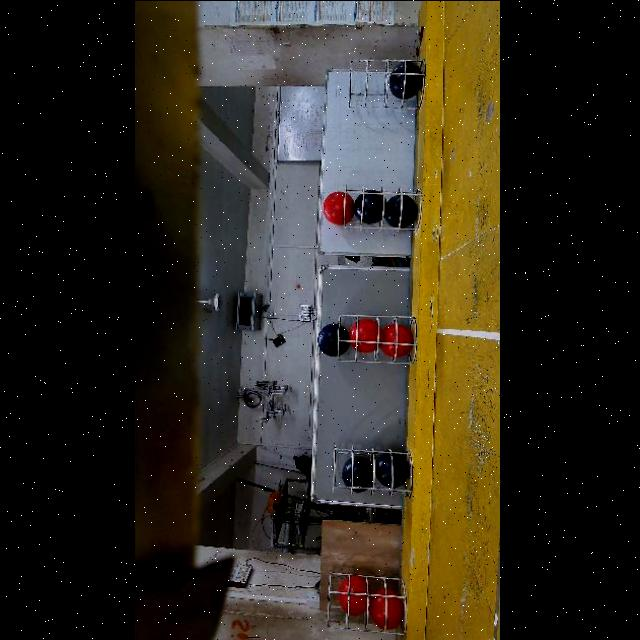P: (388, 60, 423, 99), (341, 454, 373, 492), (375, 453, 409, 487), (384, 194, 417, 227), (317, 323, 350, 356), (352, 189, 383, 223)
R: (369, 587, 403, 629), (337, 575, 367, 615), (322, 190, 354, 224), (347, 318, 378, 353), (380, 323, 412, 356)
S: (330, 441, 416, 499), (342, 52, 420, 108), (340, 315, 420, 367), (336, 185, 420, 231), (326, 570, 396, 620)
